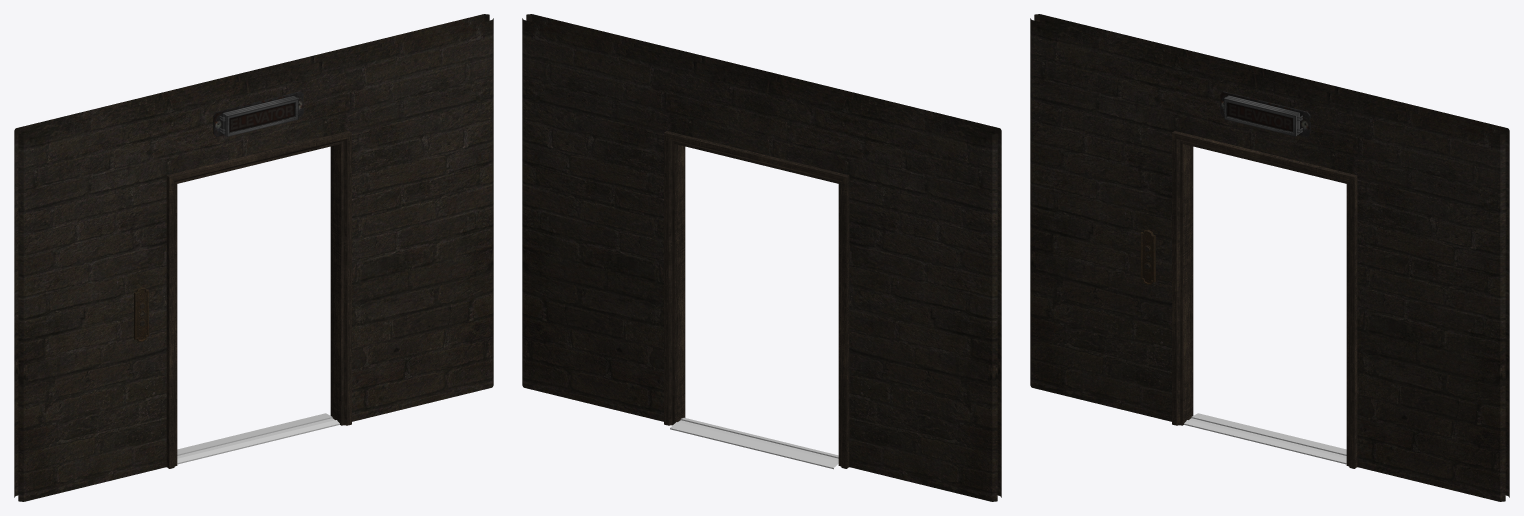
The model's file is elevator_doorway_3.obj.
3 renders of one model, left to right at view 1: azimuth 30°, elevation 25°; view 2: azimuth 150°, elevation 25°; view 3: azimuth 330°, elevation 25°, orthographic.
Parts seen in each view (by area): view 1: elevator_doorway_3; view 2: elevator_doorway_3; view 3: elevator_doorway_3.
Boxes of the visible parts, x1,y1,x2,y2 form: elevator_doorway_3: (14,14,493,501); elevator_doorway_3: (522,14,1001,501); elevator_doorway_3: (1030,14,1509,501).
Bounding box in the file's own units: 4.06 × 3 × 0.29.
